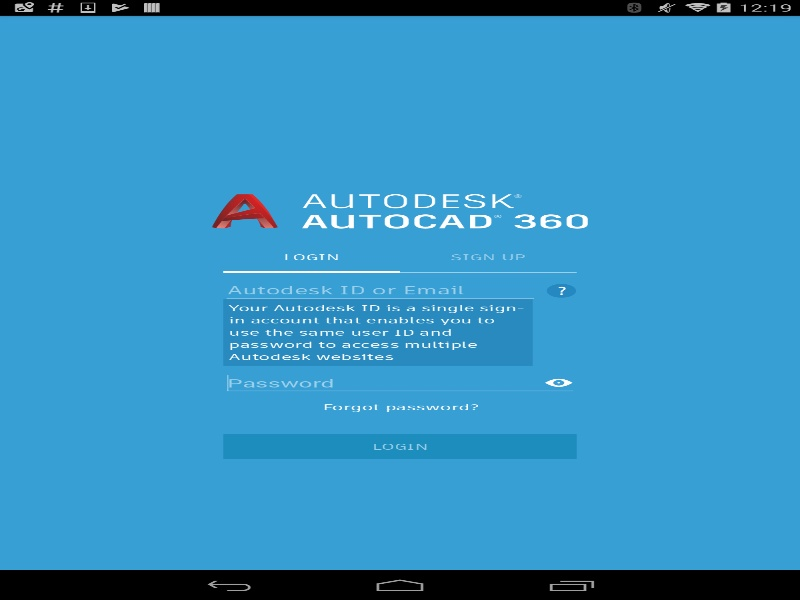Button: (223, 434, 576, 459), (322, 400, 478, 413), (546, 283, 576, 297)
Input: (223, 375, 576, 391), (223, 282, 537, 299)
